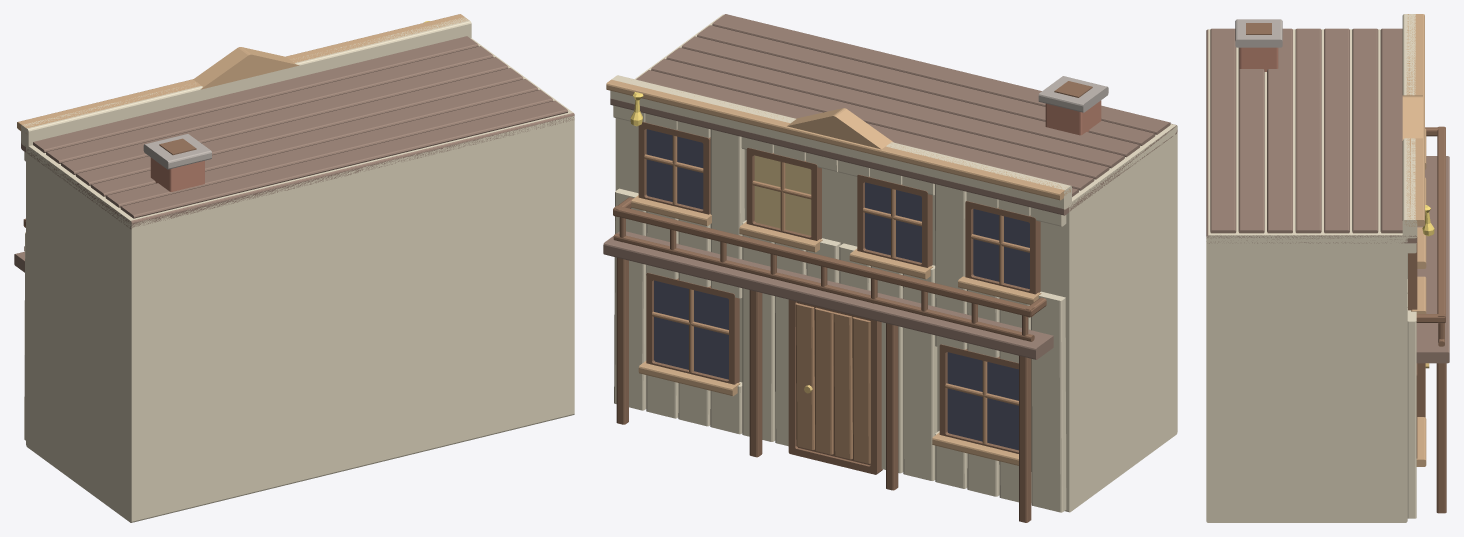
The model's file is Kit_Facade_Hotel.fbx.
The picture shows the model from 3 angles, left to right: view 1: azimuth 30°, elevation 25°; view 2: azimuth 150°, elevation 25°; view 3: azimuth 270°, elevation 25°; orthographic projection. The views are drawn at different scales.
Visible parts, largest first — view 1: Kit_Facade_Hotel; view 2: Kit_Facade_Hotel; view 3: Kit_Facade_Hotel.
Boxes of the visible parts, x1,y1,x2,y2 form: Kit_Facade_Hotel: [14, 14, 574, 522]; Kit_Facade_Hotel: [603, 14, 1177, 522]; Kit_Facade_Hotel: [1206, 14, 1449, 522].
Size of the model in its own units: 6 by 4.39 by 3.
